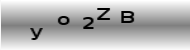2: (80, 16, 96, 30)
B: (119, 10, 135, 24)
Z: (96, 7, 112, 22)
o: (56, 14, 70, 26)
y: (29, 26, 44, 41)
